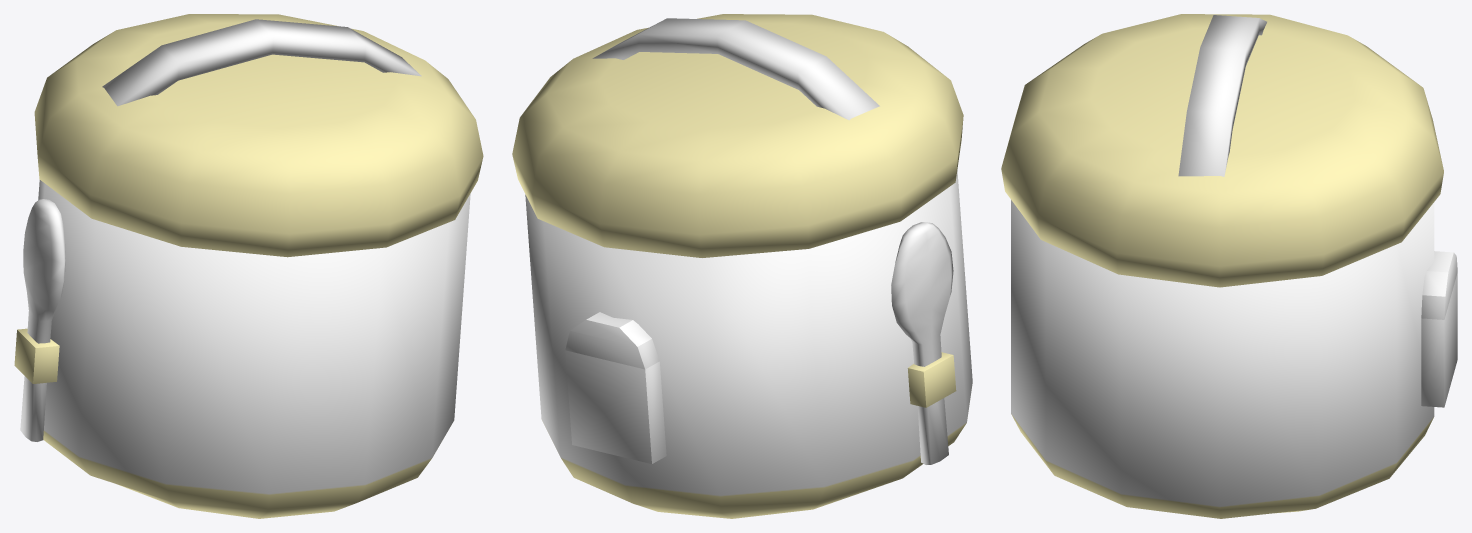
Rendered from rice cooker.glb.
3 renders of one model, left to right at view 1: azimuth 30°, elevation 25°; view 2: azimuth 150°, elevation 25°; view 3: azimuth 270°, elevation 25°, orthographic. The views are drawn at different scales.
Parts seen in each view (by area): view 1: Cube.001; view 2: Cube.001; view 3: Cube.001.
Boxes of the visible parts, bbox=[...] form: Cube.001: bbox=[14, 14, 483, 518]; Cube.001: bbox=[512, 14, 972, 518]; Cube.001: bbox=[1001, 14, 1457, 518].
Bounding box in the file's own units: 0.7166 × 0.6966 × 0.6945.
1 material, 1 textured.
